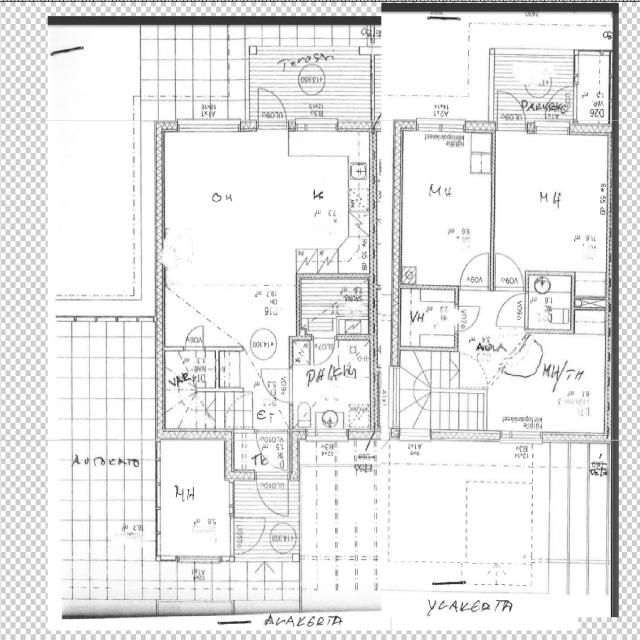door: (254, 83, 289, 133), (456, 249, 492, 292), (495, 86, 526, 132), (492, 249, 525, 290), (457, 349, 490, 389), (256, 476, 287, 518), (259, 365, 294, 402), (494, 291, 527, 330), (309, 333, 336, 367), (454, 302, 483, 333), (181, 320, 208, 352)
window: (172, 118, 246, 137), (414, 116, 468, 135), (293, 119, 341, 135), (532, 118, 570, 137), (498, 429, 544, 444), (154, 504, 164, 540)
zone: (160, 131, 376, 348), (492, 130, 612, 277), (399, 129, 493, 290), (496, 333, 610, 438), (155, 438, 232, 560), (290, 341, 374, 438), (298, 276, 371, 338), (399, 286, 458, 350), (525, 270, 574, 334), (576, 50, 612, 127), (163, 348, 219, 388), (300, 558, 318, 590)
